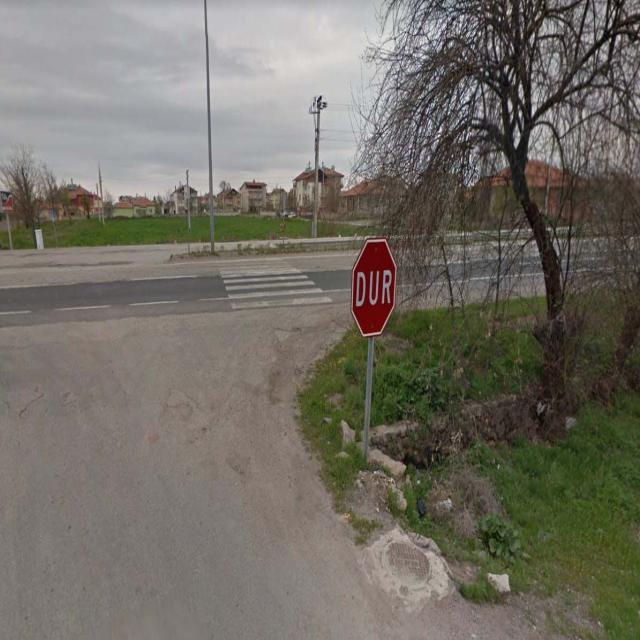dur: (352, 237, 396, 338)
